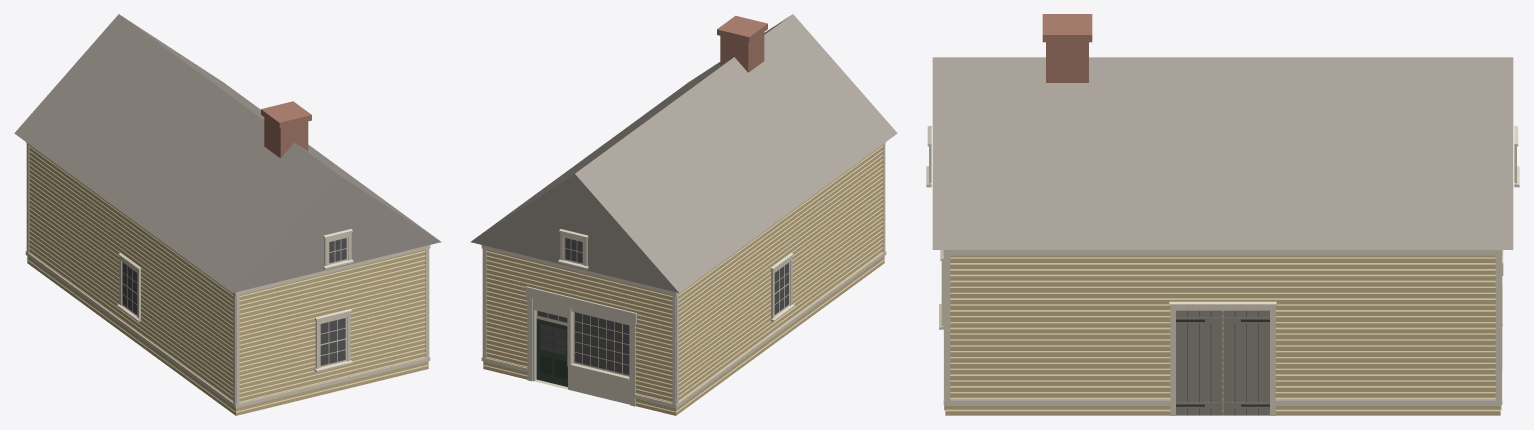
The model's file is recon_1835_core_c2_041__inferred_1835.glb.
3 views of the same model, side by side, from view 1: azimuth 30°, elevation 25°; view 2: azimuth 150°, elevation 25°; view 3: azimuth 270°, elevation 25° (orthographic). The views are drawn at different scales.
Visible parts, largest first — view 1: recon_1835_core_c2_041__inferred_1835; view 2: recon_1835_core_c2_041__inferred_1835; view 3: recon_1835_core_c2_041__inferred_1835.
Boxes of the visible parts, x1,y1,x2,y2 form: recon_1835_core_c2_041__inferred_1835: [14, 14, 441, 415]; recon_1835_core_c2_041__inferred_1835: [470, 14, 897, 415]; recon_1835_core_c2_041__inferred_1835: [926, 14, 1519, 415].
Size of the model in its own units: 6.32 by 7.12 by 11.66.
